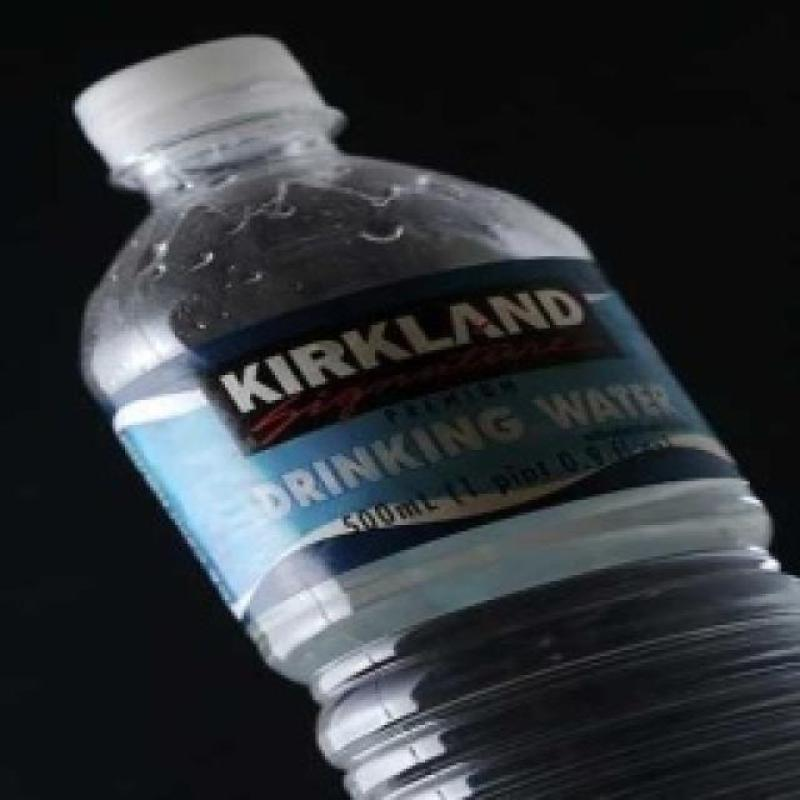botella: (75, 34, 800, 800)
